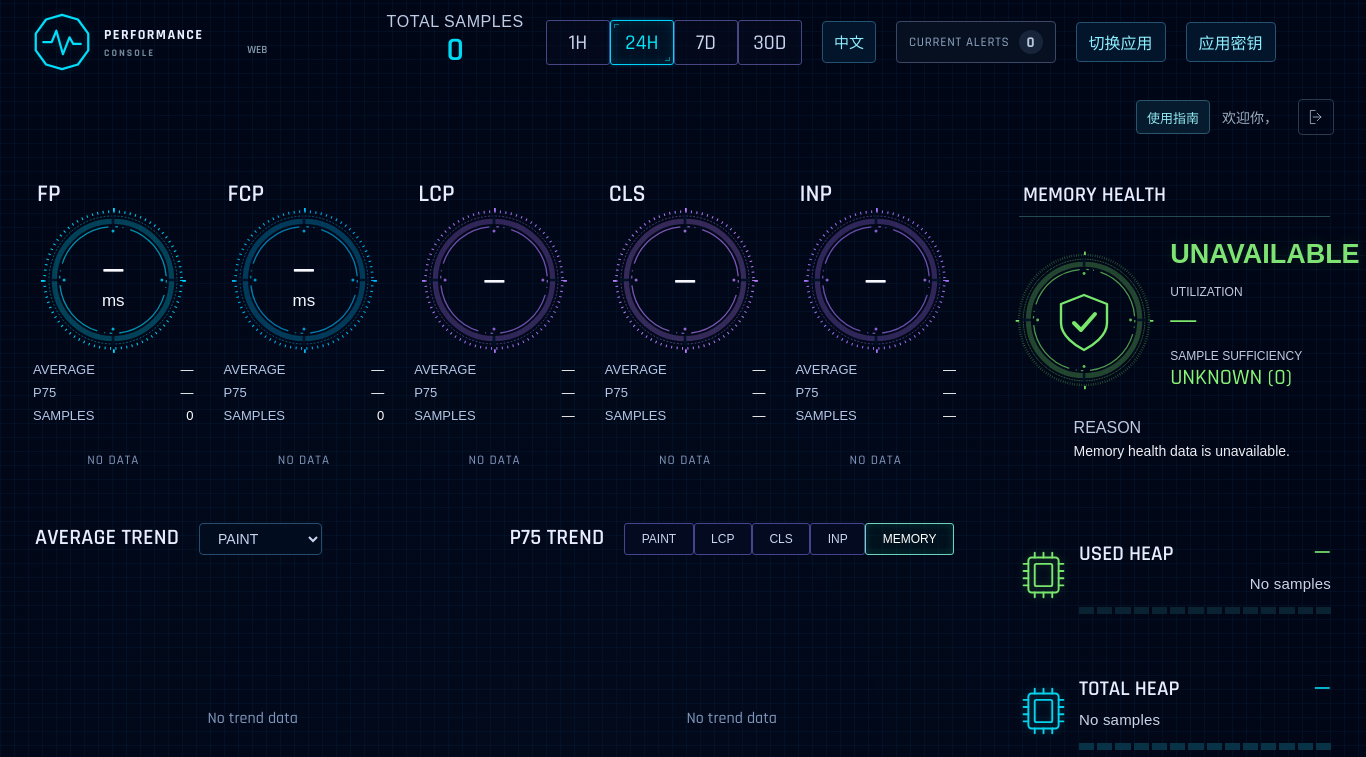
Test case: App › explains the local-time axis only for the 1h range
The image size is (1366, 757).
Click the button "1h". click: [578, 42]
box: [546,20,610,65]
(page scrolled)
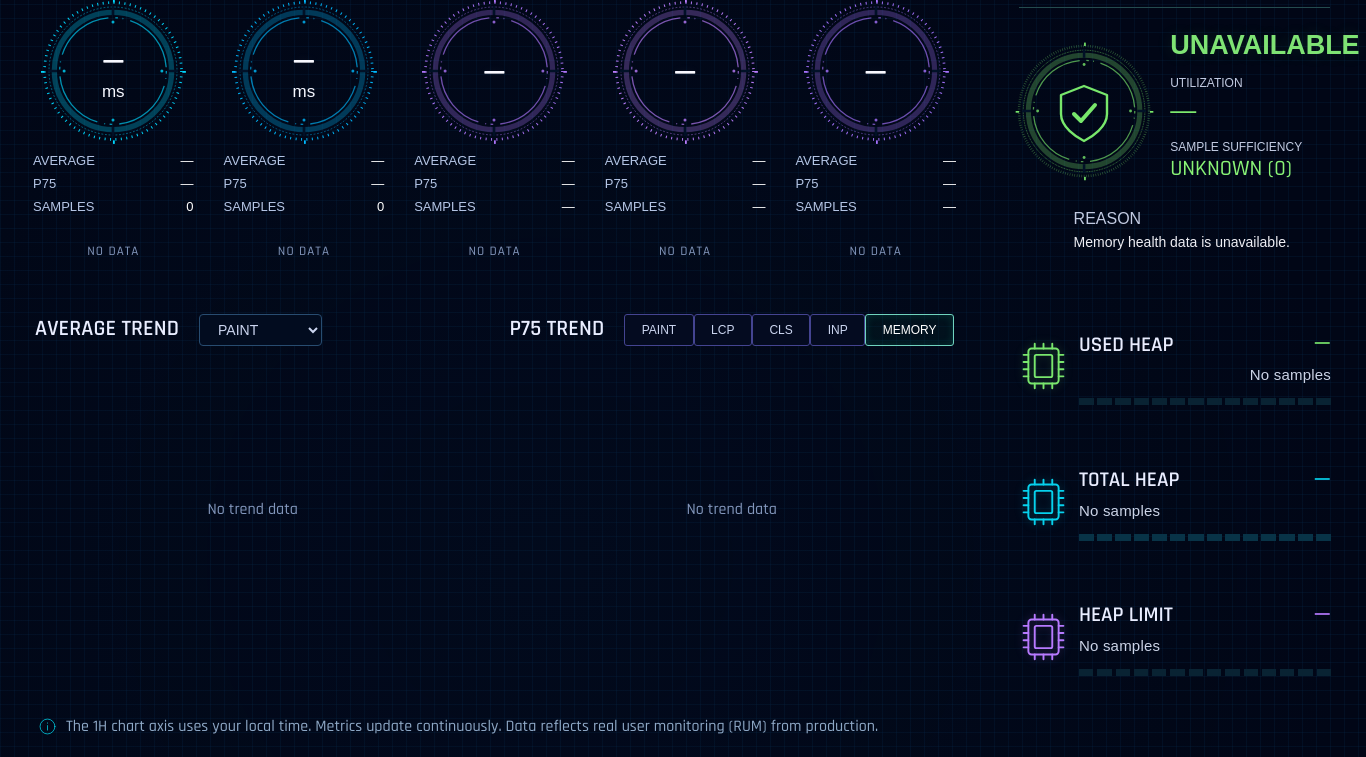
Now the footer shows "local time", box [66,716,878,737]
